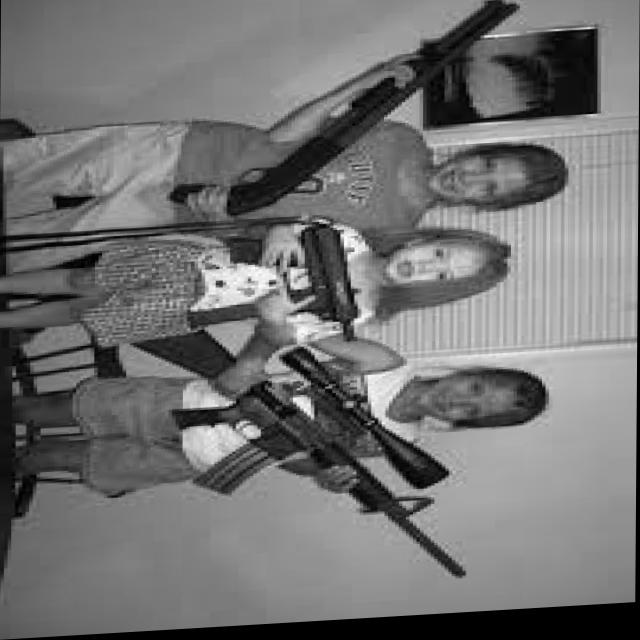rifle: (128, 318, 472, 602), (175, 0, 528, 221)
semi: (217, 224, 366, 354)
